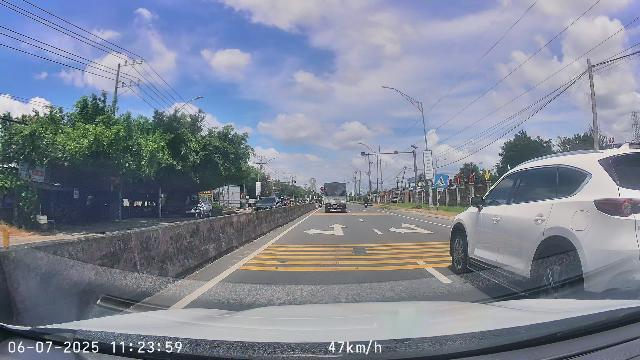423a-duong-nguoi-di-bo-sang-ngang-1: (434, 174, 447, 188)
